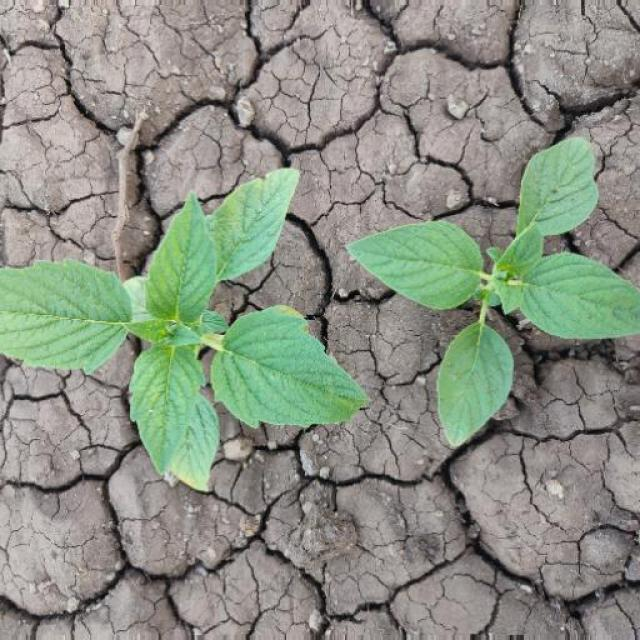crop: (1, 115, 385, 509), (335, 125, 640, 459)
